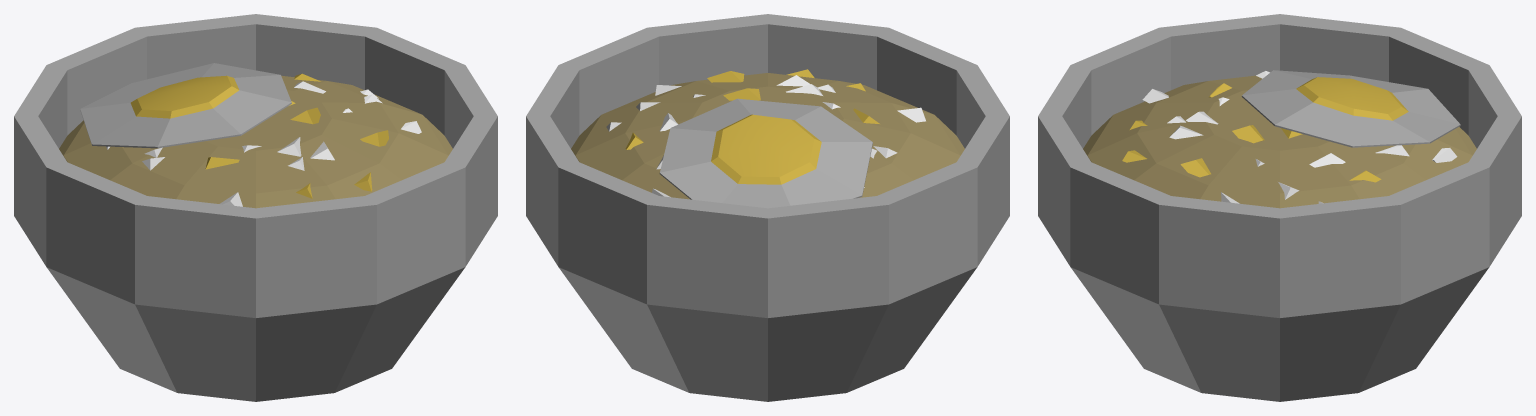
Rendered from SoySauceEggRice Installer.fbx.
3 views of the same model, side by side, from view 1: azimuth 30°, elevation 25°; view 2: azimuth 150°, elevation 25°; view 3: azimuth 270°, elevation 25° (orthographic).
Parts seen in each view (by area): view 1: SoySauceEggRice_Installer; view 2: SoySauceEggRice_Installer; view 3: SoySauceEggRice_Installer.
Part boxes in pixels (<box>): SoySauceEggRice_Installer: <box>14,14,497,401</box>; SoySauceEggRice_Installer: <box>526,14,1009,401</box>; SoySauceEggRice_Installer: <box>1038,14,1521,401</box>.
Bounding box in the file's own units: 6.26 × 3.37 × 6.26.
